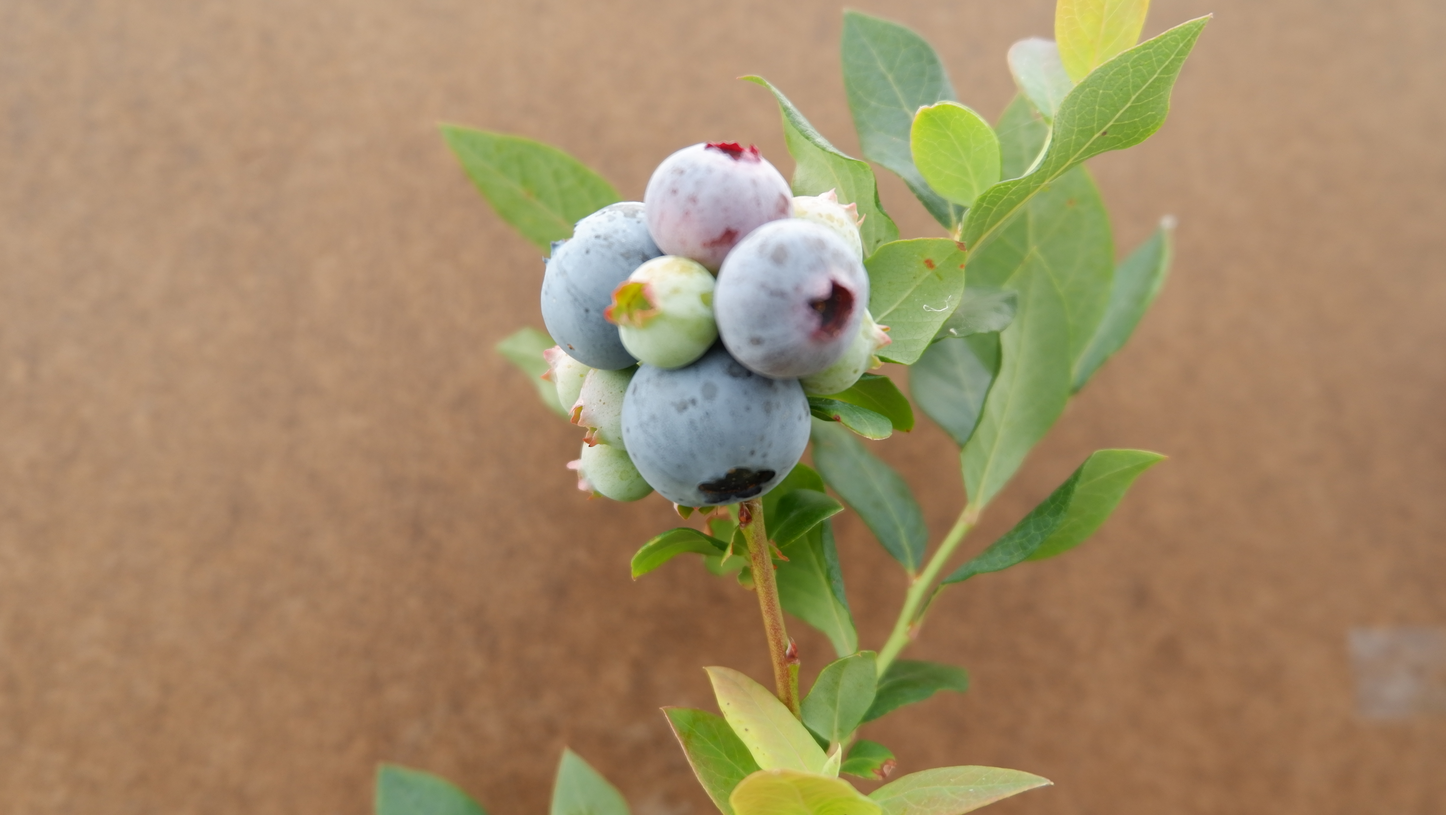Immature: (644, 141, 793, 274), (602, 256, 720, 367), (797, 310, 890, 397), (568, 364, 639, 450), (791, 187, 866, 264), (568, 444, 654, 502), (538, 345, 600, 413)
Mature: (621, 335, 811, 508), (712, 219, 870, 380), (541, 201, 667, 372)
